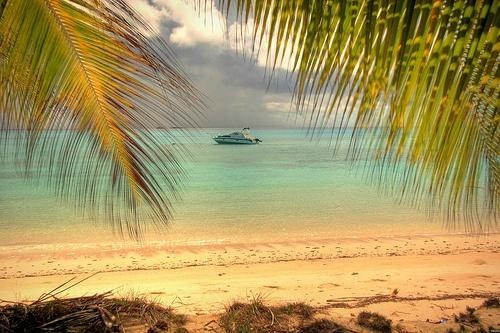boat: (211, 127, 263, 146)
